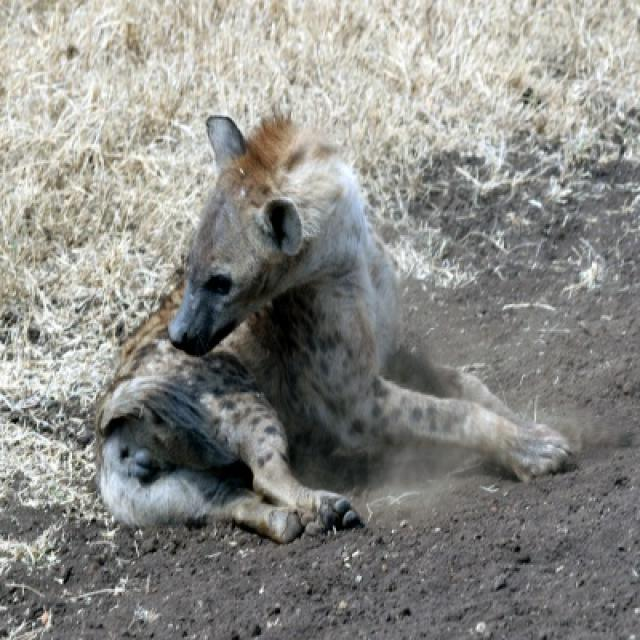hyena: (96, 115, 579, 544)
